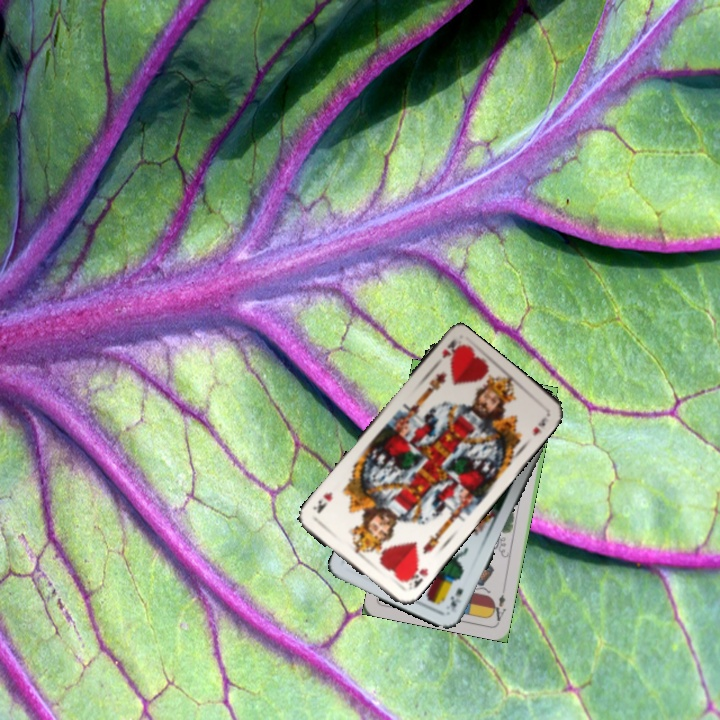EA: (487, 584, 508, 623)
EK: (447, 584, 465, 612)
HK: (401, 559, 431, 591), (438, 336, 461, 361)
